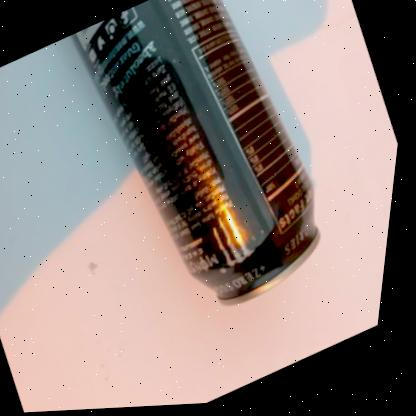Metal: (73, 0, 325, 307)
